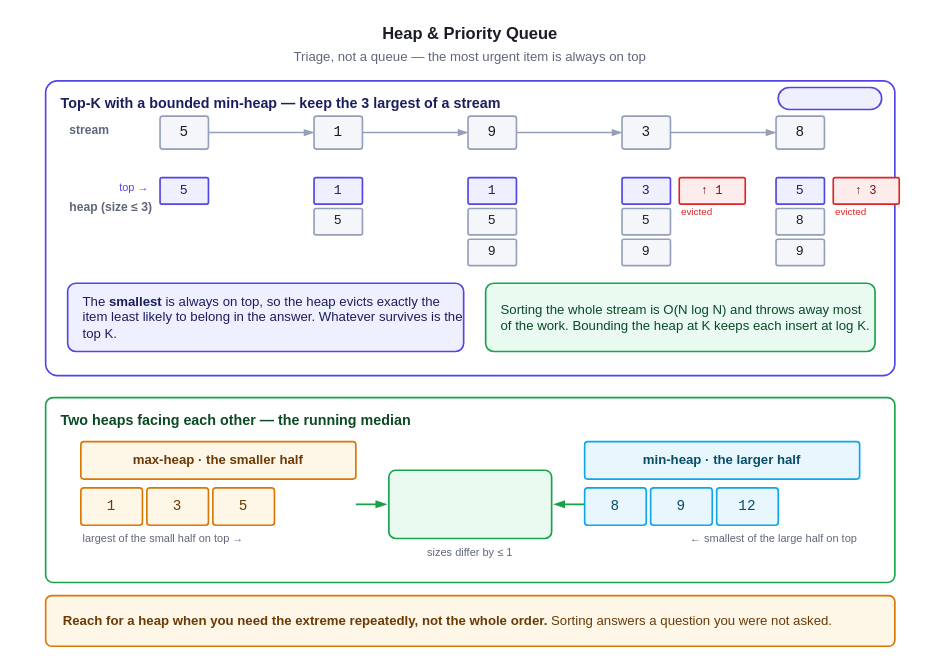
Some shapes in this 939 by 666 pixel diagram are drawn without their labels. The shapes that lost their labels are listed below. From the top down, each one's centre as x and y in pixels, then its label:
point 829,98: O(N log K)
point 470,504: median lives here
